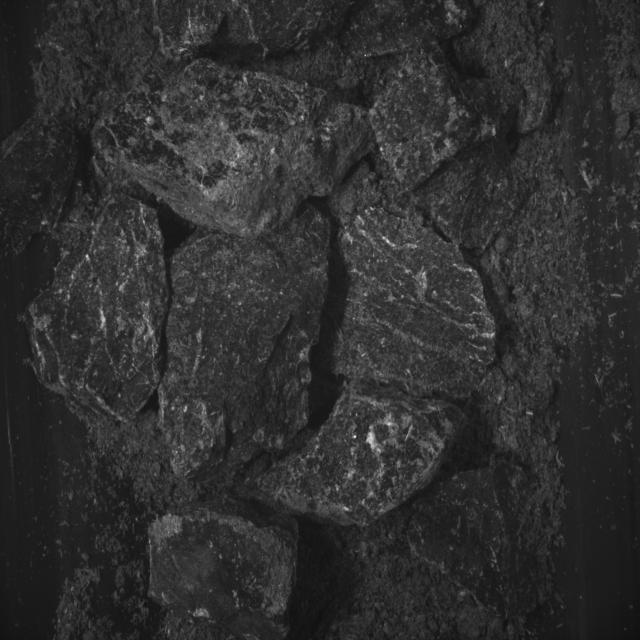Stones: (94, 60, 374, 238), (160, 210, 330, 479), (27, 196, 169, 422), (334, 208, 496, 400), (257, 384, 466, 526), (370, 47, 514, 194), (150, 503, 299, 640)
